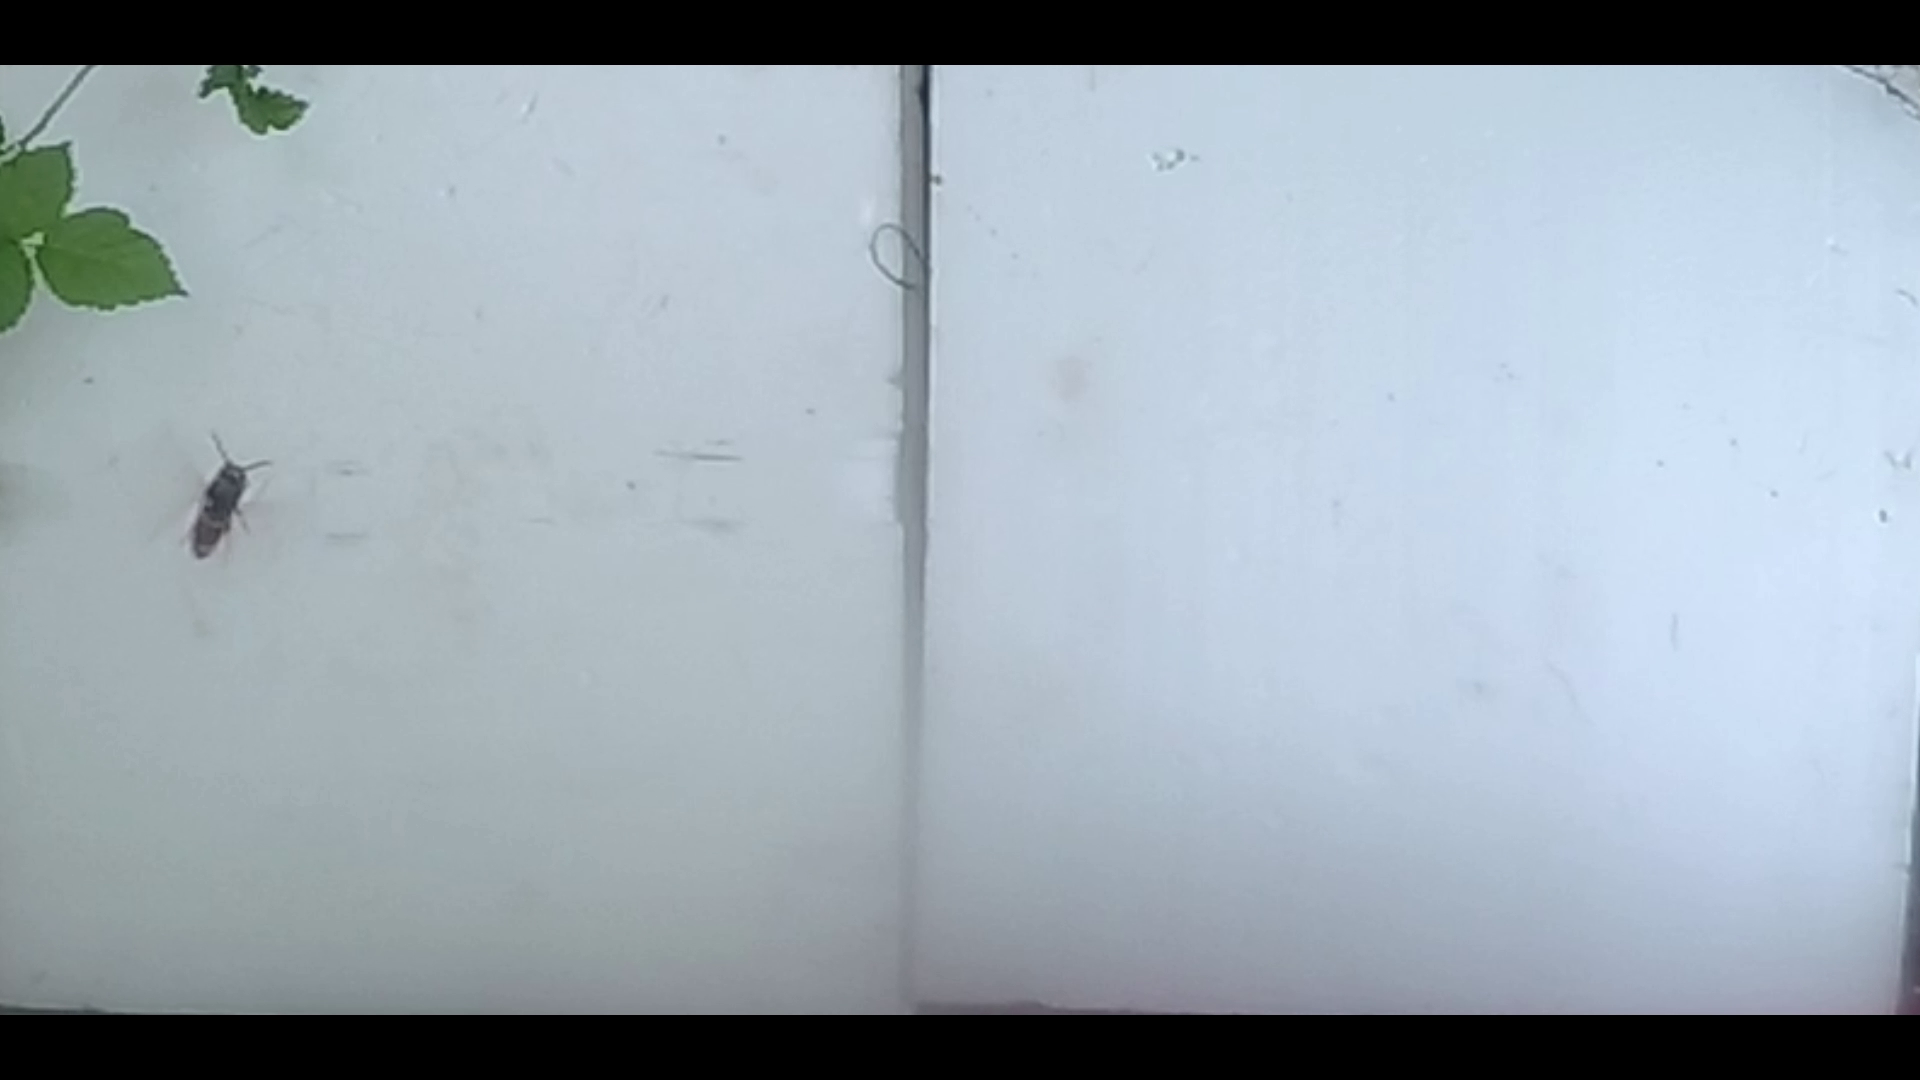Asian_hornets: (156, 419, 298, 584)
